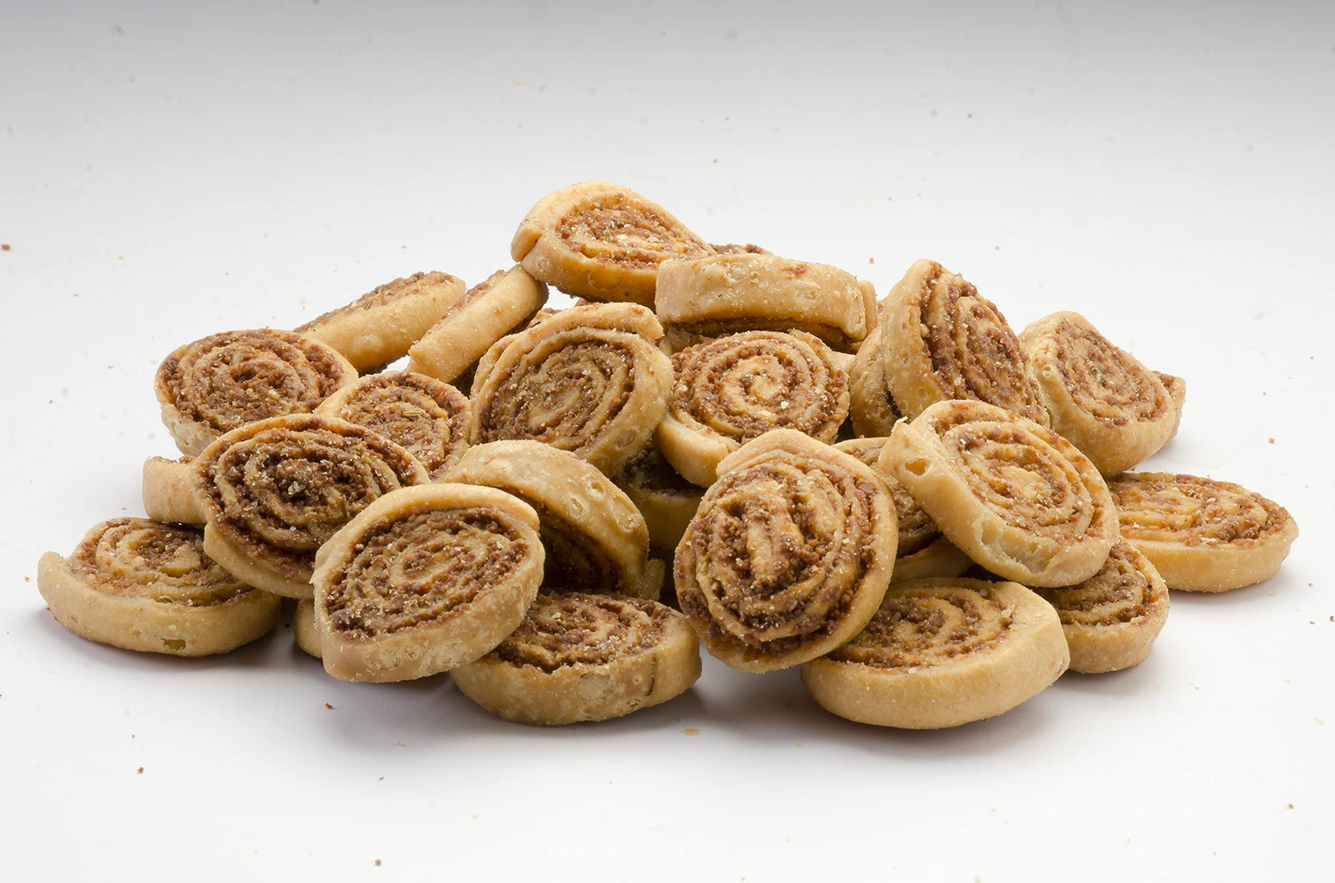bhakarwadi: (42, 195, 1300, 723)
